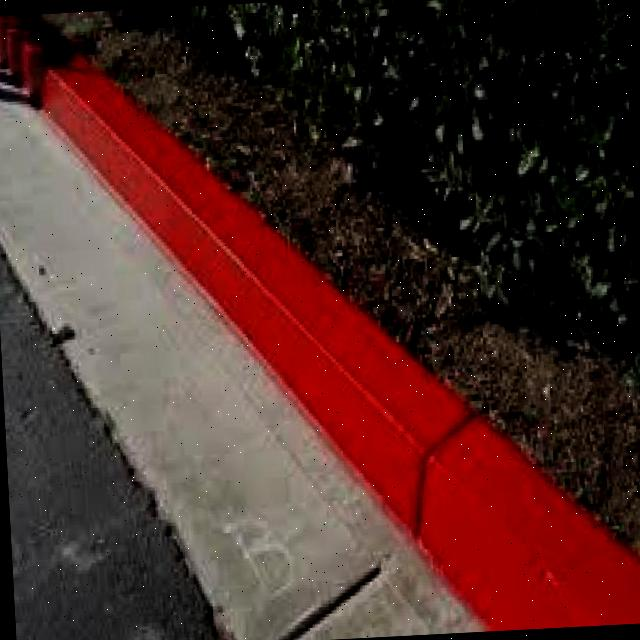curb: (73, 102, 307, 297), (395, 447, 640, 632), (278, 352, 524, 504), (181, 271, 401, 397), (1, 13, 100, 141)
